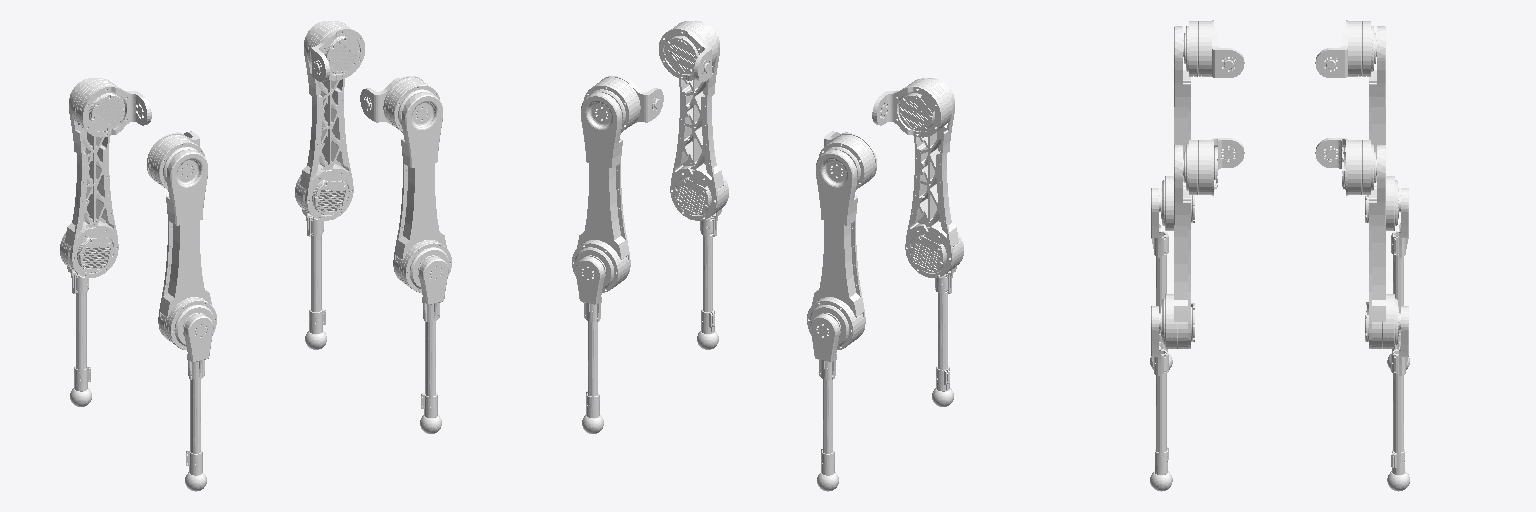
The robot description file, URDF, robot "lion":
<?xml version="1.0" ?>
<!-- =================================================================================== -->
<!-- |    This document was autogenerated by xacro from lion.xacro                     | -->
<!-- |    EDITING THIS FILE BY HAND IS NOT RECOMMENDED                                 | -->
<!-- =================================================================================== -->
<!-- This URDF was automatically created by SolidWorks to URDF Exporter! Originally created by Stephen Brawner ([email redacted]) 
     Commit Version: 1.6.0-4-g7f85cfe  Build Version: 1.6.7995.38578
     For more information, please see http://wiki.ros.org/sw_urdf_exporter -->
<robot name="lion">
  <link name="base_link">
    <inertial>
      <origin rpy="0 0 0" xyz="0.00178 0.004711 -0.007006"/>
      <mass value="8.286"/>
      <inertia ixx="0.056529" ixy="-0.001107" ixz="-3.045E-05" iyy="0.14156" iyz="-0.0011531" izz="0.17939"/>
    </inertial>
    <visual>
      <origin rpy="0 0 0" xyz="0 0 0"/>
      <geometry>
        <mesh filename="../meshes/base_link.STL"/>
      </geometry>
      <material name="">
        <color rgba="1 1 1 1"/>
      </material>
    </visual>
    <collision>
      <origin rpy="0 0 0" xyz="0 0 0"/>
      <geometry>
        <mesh filename="../meshes/base_link.STL"/>
      </geometry>
    </collision>
  </link>
  <link name="LegFR_hip">
    <inertial>
      <origin rpy="0 0 0" xyz="-0.005149 -0.04712 4.2E-05"/>
      <mass value="1.095"/>
      <inertia ixx="0.0010035" ixy="-0.00021789" ixz="1.433E-06" iyy="0.0014762" iyz="1.005E-06" izz="0.0012507"/>
    </inertial>
    <visual>
      <origin rpy="0 0 0" xyz="0 0 0"/>
      <geometry>
        <mesh filename="../meshes/hip_link.STL"/>
      </geometry>
      <material name="">
        <color rgba="1 1 1 1"/>
      </material>
    </visual>
    <collision>
      <origin rpy="0 0 0" xyz="0 0 0"/>
      <geometry>
        <mesh filename="../meshes/hip_link.STL"/>
      </geometry>
    </collision>
  </link>
  <joint name="JointFR_abad" type="revolute">
    <origin rpy="0.0 0.0 0" xyz="0.2467 -0.09 0.0005"/>
    <parent link="base_link"/>
    <child link="LegFR_hip"/>
    <axis xyz="1 0 0"/>
    <limit effort="30" lower="-1" upper="1" velocity="17"/>
  </joint>
  <link name="LegFR_thigh">
    <inertial>
      <origin rpy="0 0 0" xyz="-3.2E-05 -0.089075 -0.23824"/>
      <mass value="1.556"/>
      <inertia ixx="0.015631" ixy="-8.61E-07" ixz="-6.078E-06" iyy="0.016183" iyz="0.0004689" izz="0.0011163"/>
    </inertial>
    <visual>
      <origin rpy="0 0 0" xyz="0 0 0"/>
      <geometry>
        <mesh filename="../meshes/thigh_link.STL"/>
      </geometry>
      <material name="">
        <color rgba="1 1 1 1"/>
      </material>
    </visual>
    <collision>
      <origin rpy="0 0 0" xyz="0 0 0"/>
      <geometry>
        <mesh filename="../meshes/thigh_link.STL"/>
      </geometry>
    </collision>
  </link>
  <joint name="JointFR_hip" type="revolute">
    <origin rpy="0 0.0 0" xyz="0 0 0"/>
    <parent link="LegFR_hip"/>
    <child link="LegFR_thigh"/>
    <axis xyz="0 1 0"/>
    <limit effort="30" lower="-2" upper="2" velocity="17"/>
  </joint>
  <link name="LegFR_shank">
    <inertial>
      <origin rpy="0 0 0" xyz="-0.000122 -0.005126 -0.12406"/>
      <mass value="0.233"/>
      <inertia ixx="0.0033053" ixy="-3.64E-07" ixz="4.028E-06" iyy="0.0033126" iyz="-0.00013194" izz="4.3236E-05"/>
    </inertial>
    <visual>
      <origin rpy="0 0 0" xyz="0 0 0"/>
      <geometry>
        <mesh filename="../meshes/shank_link.STL"/>
      </geometry>
      <material name="">
        <color rgba="1 1 1 1"/>
      </material>
    </visual>
    <collision>
      <origin rpy="0 0 0" xyz="0 0 0"/>
      <geometry>
        <mesh filename="../meshes/shank_link.STL"/>
      </geometry>
    </collision>
  </link>
  <joint name="JointFR_knee" type="revolute">
    <origin rpy="0 0 0" xyz="0 -0.119 -0.3"/>
    <parent link="LegFR_thigh"/>
    <child link="LegFR_shank"/>
    <axis xyz="0 1 0"/>
    <limit effort="30" lower="-3" upper="3" velocity="17"/>
  </joint>
  <link name="LegFL_hip">
    <inertial>
      <origin rpy="0 0 0" xyz="-0.005149 -0.04712 4.2E-05"/>
      <mass value="1.095"/>
      <inertia ixx="0.0010035" ixy="-0.00021789" ixz="1.433E-06" iyy="0.0014762" iyz="1.005E-06" izz="0.0012507"/>
    </inertial>
    <visual>
      <origin rpy="0 0 0" xyz="0 0 0"/>
      <geometry>
        <mesh filename="../meshes/hip_link.STL"/>
      </geometry>
      <material name="">
        <color rgba="1 1 1 1"/>
      </material>
    </visual>
    <collision>
      <origin rpy="0 0 0" xyz="0 0 0"/>
      <geometry>
        <mesh filename="../meshes/hip_link.STL"/>
      </geometry>
    </collision>
  </link>
  <joint name="JointFL_abad" type="revolute">
    <origin rpy="3.141592653589793 0.0 0" xyz="0.2467 0.09 0.0005"/>
    <parent link="base_link"/>
    <child link="LegFL_hip"/>
    <axis xyz="1 0 0"/>
    <limit effort="30" lower="-1" upper="1" velocity="17"/>
  </joint>
  <link name="LegFL_thigh">
    <inertial>
      <origin rpy="0 0 0" xyz="-3.2E-05 -0.089075 -0.23824"/>
      <mass value="1.556"/>
      <inertia ixx="0.015631" ixy="-8.61E-07" ixz="-6.078E-06" iyy="0.016183" iyz="0.0004689" izz="0.0011163"/>
    </inertial>
    <visual>
      <origin rpy="0 0 0" xyz="0 0 0"/>
      <geometry>
        <mesh filename="../meshes/thigh_link.STL"/>
      </geometry>
      <material name="">
        <color rgba="1 1 1 1"/>
      </material>
    </visual>
    <collision>
      <origin rpy="0 0 0" xyz="0 0 0"/>
      <geometry>
        <mesh filename="../meshes/thigh_link.STL"/>
      </geometry>
    </collision>
  </link>
  <joint name="JointFL_hip" type="revolute">
    <origin rpy="0 3.141592653589793 0" xyz="0 0 0"/>
    <parent link="LegFL_hip"/>
    <child link="LegFL_thigh"/>
    <axis xyz="0 -1 0"/>
    <limit effort="30" lower="-2" upper="2" velocity="17"/>
  </joint>
  <link name="LegFL_shank">
    <inertial>
      <origin rpy="0 0 0" xyz="-0.000122 -0.005126 -0.12406"/>
      <mass value="0.233"/>
      <inertia ixx="0.0033053" ixy="-3.64E-07" ixz="4.028E-06" iyy="0.0033126" iyz="-0.00013194" izz="4.3236E-05"/>
    </inertial>
    <visual>
      <origin rpy="0 0 0" xyz="0 0 0"/>
      <geometry>
        <mesh filename="../meshes/shank_link.STL"/>
      </geometry>
      <material name="">
        <color rgba="1 1 1 1"/>
      </material>
    </visual>
    <collision>
      <origin rpy="0 0 0" xyz="0 0 0"/>
      <geometry>
        <mesh filename="../meshes/shank_link.STL"/>
      </geometry>
    </collision>
  </link>
  <joint name="JointFL_knee" type="revolute">
    <origin rpy="0 0 0" xyz="0 -0.119 -0.3"/>
    <parent link="LegFL_thigh"/>
    <child link="LegFL_shank"/>
    <axis xyz="0 -1 0"/>
    <limit effort="30" lower="-3" upper="3" velocity="17"/>
  </joint>
  <link name="LegHR_hip">
    <inertial>
      <origin rpy="0 0 0" xyz="-0.005149 -0.04712 4.2E-05"/>
      <mass value="1.095"/>
      <inertia ixx="0.0010035" ixy="-0.00021789" ixz="1.433E-06" iyy="0.0014762" iyz="1.005E-06" izz="0.0012507"/>
    </inertial>
    <visual>
      <origin rpy="0 0 0" xyz="0 0 0"/>
      <geometry>
        <mesh filename="../meshes/hip_link.STL"/>
      </geometry>
      <material name="">
        <color rgba="1 1 1 1"/>
      </material>
    </visual>
    <collision>
      <origin rpy="0 0 0" xyz="0 0 0"/>
      <geometry>
        <mesh filename="../meshes/hip_link.STL"/>
      </geometry>
    </collision>
  </link>
  <joint name="JointHR_abad" type="revolute">
    <origin rpy="0.0 3.141592653589793 0" xyz="-0.2467 -0.09 0.0005"/>
    <parent link="base_link"/>
    <child link="LegHR_hip"/>
    <axis xyz="-1 0 0"/>
    <limit effort="30" lower="-1" upper="1" velocity="17"/>
  </joint>
  <link name="LegHR_thigh">
    <inertial>
      <origin rpy="0 0 0" xyz="-3.2E-05 -0.089075 -0.23824"/>
      <mass value="1.556"/>
      <inertia ixx="0.015631" ixy="-8.61E-07" ixz="-6.078E-06" iyy="0.016183" iyz="0.0004689" izz="0.0011163"/>
    </inertial>
    <visual>
      <origin rpy="0 0 0" xyz="0 0 0"/>
      <geometry>
        <mesh filename="../meshes/thigh_link.STL"/>
      </geometry>
      <material name="">
        <color rgba="1 1 1 1"/>
      </material>
    </visual>
    <collision>
      <origin rpy="0 0 0" xyz="0 0 0"/>
      <geometry>
        <mesh filename="../meshes/thigh_link.STL"/>
      </geometry>
    </collision>
  </link>
  <joint name="JointHR_hip" type="revolute">
    <origin rpy="0 3.141592653589793 0" xyz="0 0 0"/>
    <parent link="LegHR_hip"/>
    <child link="LegHR_thigh"/>
    <axis xyz="0 1 0"/>
    <limit effort="30" lower="-2" upper="2" velocity="17"/>
  </joint>
  <link name="LegHR_shank">
    <inertial>
      <origin rpy="0 0 0" xyz="-0.000122 -0.005126 -0.12406"/>
      <mass value="0.233"/>
      <inertia ixx="0.0033053" ixy="-3.64E-07" ixz="4.028E-06" iyy="0.0033126" iyz="-0.00013194" izz="4.3236E-05"/>
    </inertial>
    <visual>
      <origin rpy="0 0 0" xyz="0 0 0"/>
      <geometry>
        <mesh filename="../meshes/shank_link.STL"/>
      </geometry>
      <material name="">
        <color rgba="1 1 1 1"/>
      </material>
    </visual>
    <collision>
      <origin rpy="0 0 0" xyz="0 0 0"/>
      <geometry>
        <mesh filename="../meshes/shank_link.STL"/>
      </geometry>
    </collision>
  </link>
  <joint name="JointHR_knee" type="revolute">
    <origin rpy="0 0 0" xyz="0 -0.119 -0.3"/>
    <parent link="LegHR_thigh"/>
    <child link="LegHR_shank"/>
    <axis xyz="0 1 0"/>
    <limit effort="30" lower="-3" upper="3" velocity="17"/>
  </joint>
  <link name="LegHL_hip">
    <inertial>
      <origin rpy="0 0 0" xyz="-0.005149 -0.04712 4.2E-05"/>
      <mass value="1.095"/>
      <inertia ixx="0.0010035" ixy="-0.00021789" ixz="1.433E-06" iyy="0.0014762" iyz="1.005E-06" izz="0.0012507"/>
    </inertial>
    <visual>
      <origin rpy="0 0 0" xyz="0 0 0"/>
      <geometry>
        <mesh filename="../meshes/hip_link.STL"/>
      </geometry>
      <material name="">
        <color rgba="1 1 1 1"/>
      </material>
    </visual>
    <collision>
      <origin rpy="0 0 0" xyz="0 0 0"/>
      <geometry>
        <mesh filename="../meshes/hip_link.STL"/>
      </geometry>
    </collision>
  </link>
  <joint name="JointHL_abad" type="revolute">
    <origin rpy="3.141592653589793 3.141592653589793 0" xyz="-0.2467 0.09 0.0005"/>
    <parent link="base_link"/>
    <child link="LegHL_hip"/>
    <axis xyz="-1 0 0"/>
    <limit effort="30" lower="-1" upper="1" velocity="17"/>
  </joint>
  <link name="LegHL_thigh">
    <inertial>
      <origin rpy="0 0 0" xyz="-3.2E-05 -0.089075 -0.23824"/>
      <mass value="1.556"/>
      <inertia ixx="0.015631" ixy="-8.61E-07" ixz="-6.078E-06" iyy="0.016183" iyz="0.0004689" izz="0.0011163"/>
    </inertial>
    <visual>
      <origin rpy="0 0 0" xyz="0 0 0"/>
      <geometry>
        <mesh filename="../meshes/thigh_link.STL"/>
      </geometry>
      <material name="">
        <color rgba="1 1 1 1"/>
      </material>
    </visual>
    <collision>
      <origin rpy="0 0 0" xyz="0 0 0"/>
      <geometry>
        <mesh filename="../meshes/thigh_link.STL"/>
      </geometry>
    </collision>
  </link>
  <joint name="JointHL_hip" type="revolute">
    <origin rpy="0 6.283185307179586 0" xyz="0 0 0"/>
    <parent link="LegHL_hip"/>
    <child link="LegHL_thigh"/>
    <axis xyz="0 -1 0"/>
    <limit effort="30" lower="-2" upper="2" velocity="17"/>
  </joint>
  <link name="LegHL_shank">
    <inertial>
      <origin rpy="0 0 0" xyz="-0.000122 -0.005126 -0.12406"/>
      <mass value="0.233"/>
      <inertia ixx="0.0033053" ixy="-3.64E-07" ixz="4.028E-06" iyy="0.0033126" iyz="-0.00013194" izz="4.3236E-05"/>
    </inertial>
    <visual>
      <origin rpy="0 0 0" xyz="0 0 0"/>
      <geometry>
        <mesh filename="../meshes/shank_link.STL"/>
      </geometry>
      <material name="">
        <color rgba="1 1 1 1"/>
      </material>
    </visual>
    <collision>
      <origin rpy="0 0 0" xyz="0 0 0"/>
      <geometry>
        <mesh filename="../meshes/shank_link.STL"/>
      </geometry>
    </collision>
  </link>
  <joint name="JointHL_knee" type="revolute">
    <origin rpy="0 0 0" xyz="0 -0.119 -0.3"/>
    <parent link="LegHL_thigh"/>
    <child link="LegHL_shank"/>
    <axis xyz="0 -1 0"/>
    <limit effort="30" lower="-3" upper="3" velocity="17"/>
  </joint>
</robot>

--- Render facts (derived) ---
The picture shows the robot from 3 angles, left to right: view 1: azimuth 30°, elevation 25°; view 2: azimuth 150°, elevation 25°; view 3: azimuth 270°, elevation 25°; orthographic projection.
Model lion with 13 links and 12 joints (12 revolute), rooted at base_link, posed every joint at zero.
Links seen in each view (by area): view 1: LegHR_thigh, LegFR_thigh, LegHL_thigh, LegFL_thigh, LegHL_hip, LegFR_shank, LegHR_shank, LegFL_hip, LegFR_hip, LegFL_shank, LegHL_shank, LegHR_hip; view 2: LegHL_thigh, LegFL_thigh, LegHR_thigh, LegFR_thigh, LegHR_hip, LegHL_shank, LegFL_shank, LegFR_hip, LegFL_hip, LegHR_shank, LegFR_shank, LegHL_hip; view 3: LegFL_thigh, LegFR_thigh, LegHR_hip, LegHL_hip, LegFR_hip, LegFL_hip, LegHR_thigh, LegHL_thigh, LegFR_shank, LegFL_shank, LegHR_shank, LegHL_shank.
Boxes of the visible links, x1,y1,x2,y2 form: LegHR_thigh: (158, 150, 216, 349); LegFR_thigh: (393, 92, 451, 292); LegHL_thigh: (60, 78, 118, 277); LegFL_thigh: (295, 21, 353, 220); LegHL_hip: (71, 78, 151, 137); LegFR_shank: (419, 256, 448, 433); LegHR_shank: (184, 314, 213, 491); LegFL_hip: (306, 21, 364, 81); LegFR_hip: (360, 76, 439, 132); LegFL_shank: (302, 209, 326, 349); LegHL_shank: (67, 266, 91, 406); LegHR_hip: (147, 131, 204, 189); LegHL_thigh: (807, 150, 865, 349); LegFL_thigh: (572, 92, 630, 292); LegHR_thigh: (905, 78, 963, 277); LegFR_thigh: (670, 21, 728, 220); LegHR_hip: (872, 78, 952, 137); LegHL_shank: (810, 314, 839, 491); LegFL_shank: (575, 256, 604, 433); LegFR_hip: (659, 21, 717, 81); LegFL_hip: (584, 76, 663, 132); LegHR_shank: (932, 266, 956, 406); LegFR_shank: (697, 209, 721, 349); LegHL_hip: (819, 131, 876, 189); LegFL_thigh: (1365, 145, 1399, 348); LegFR_thigh: (1160, 145, 1194, 348); LegHR_hip: (1183, 20, 1244, 77); LegHL_hip: (1315, 20, 1376, 77); LegFR_hip: (1183, 138, 1244, 195); LegFL_hip: (1315, 138, 1376, 195); LegHR_thigh: (1160, 26, 1194, 230); LegHL_thigh: (1365, 26, 1399, 230); LegFR_shank: (1150, 306, 1172, 491); LegFL_shank: (1387, 306, 1409, 491); LegHR_shank: (1150, 188, 1172, 369); LegHL_shank: (1387, 188, 1409, 369).
Bounding box of the posed robot: 0.593 × 0.4579 × 0.6778 m (x, y, z).
12 mesh visuals loaded from 4 distinct referenced files (3 binary STL); not drawn: 1 (reference not matched to a file when rendering).
